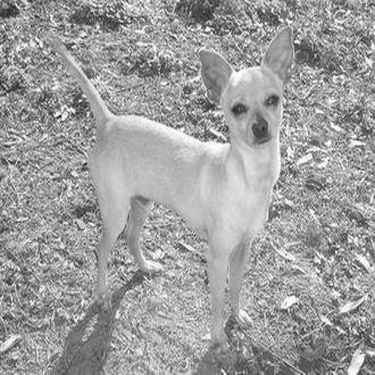dog: (29, 19, 300, 358)
